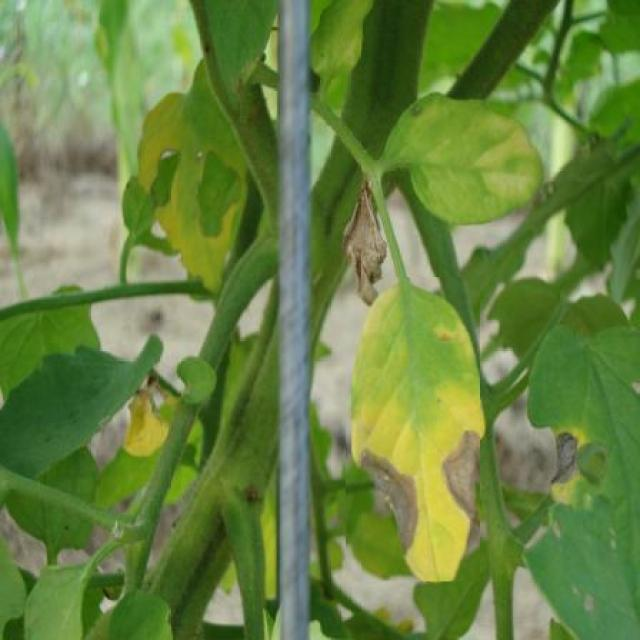Early Blight: (346, 277, 480, 582)
